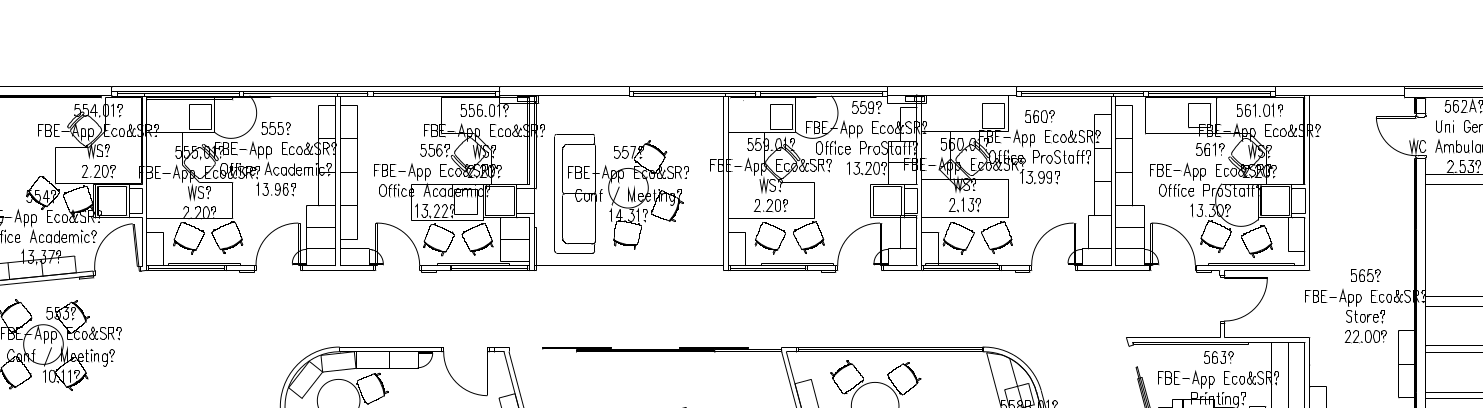door: (84, 220, 142, 283), (247, 216, 305, 279), (368, 214, 426, 277), (830, 214, 888, 277), (1021, 216, 1079, 279), (1144, 216, 1202, 279), (1220, 270, 1271, 326), (1366, 109, 1417, 165), (441, 345, 492, 401)
